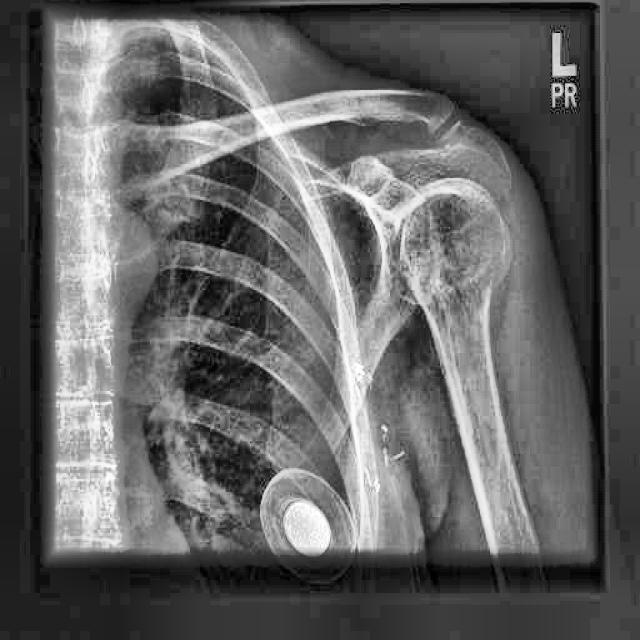shoulder fracture: (409, 96, 483, 169)
